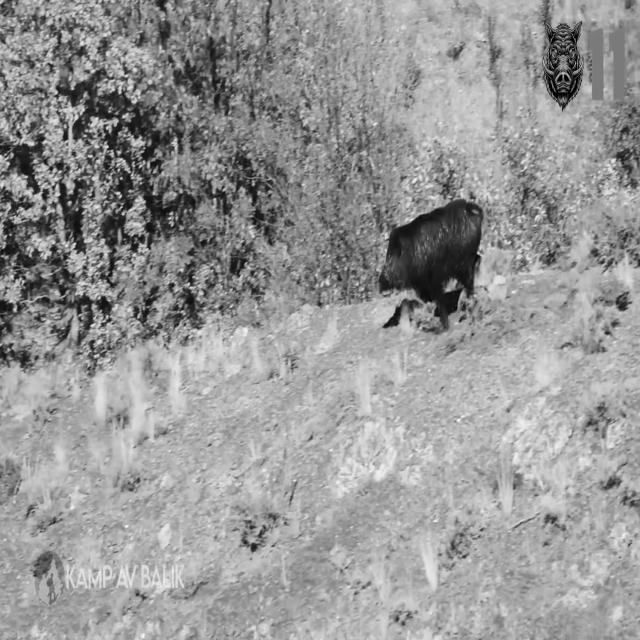boar: (378, 200, 483, 328), (543, 19, 585, 109)
